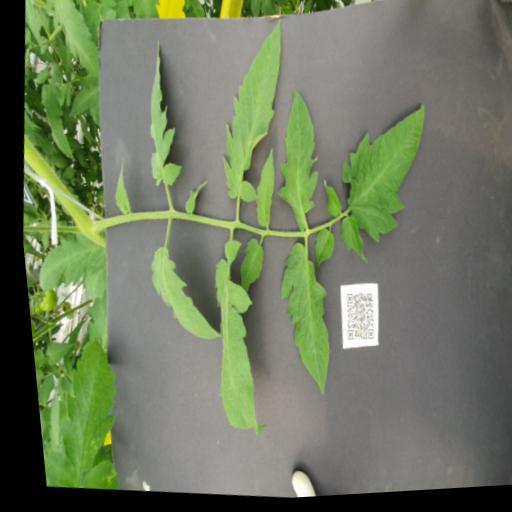Healthy: (190, 237, 279, 440), (204, 15, 296, 209), (325, 99, 433, 254), (259, 241, 337, 400), (261, 87, 328, 236), (136, 243, 225, 346), (135, 38, 193, 191), (35, 0, 107, 81), (30, 59, 84, 164), (28, 226, 106, 297), (244, 147, 278, 231), (228, 239, 263, 297), (330, 216, 367, 269), (63, 73, 101, 121), (105, 155, 132, 217), (305, 230, 332, 276), (315, 179, 342, 221), (36, 338, 70, 369), (126, 0, 164, 23), (28, 372, 49, 406), (31, 405, 40, 452), (26, 345, 40, 368)
